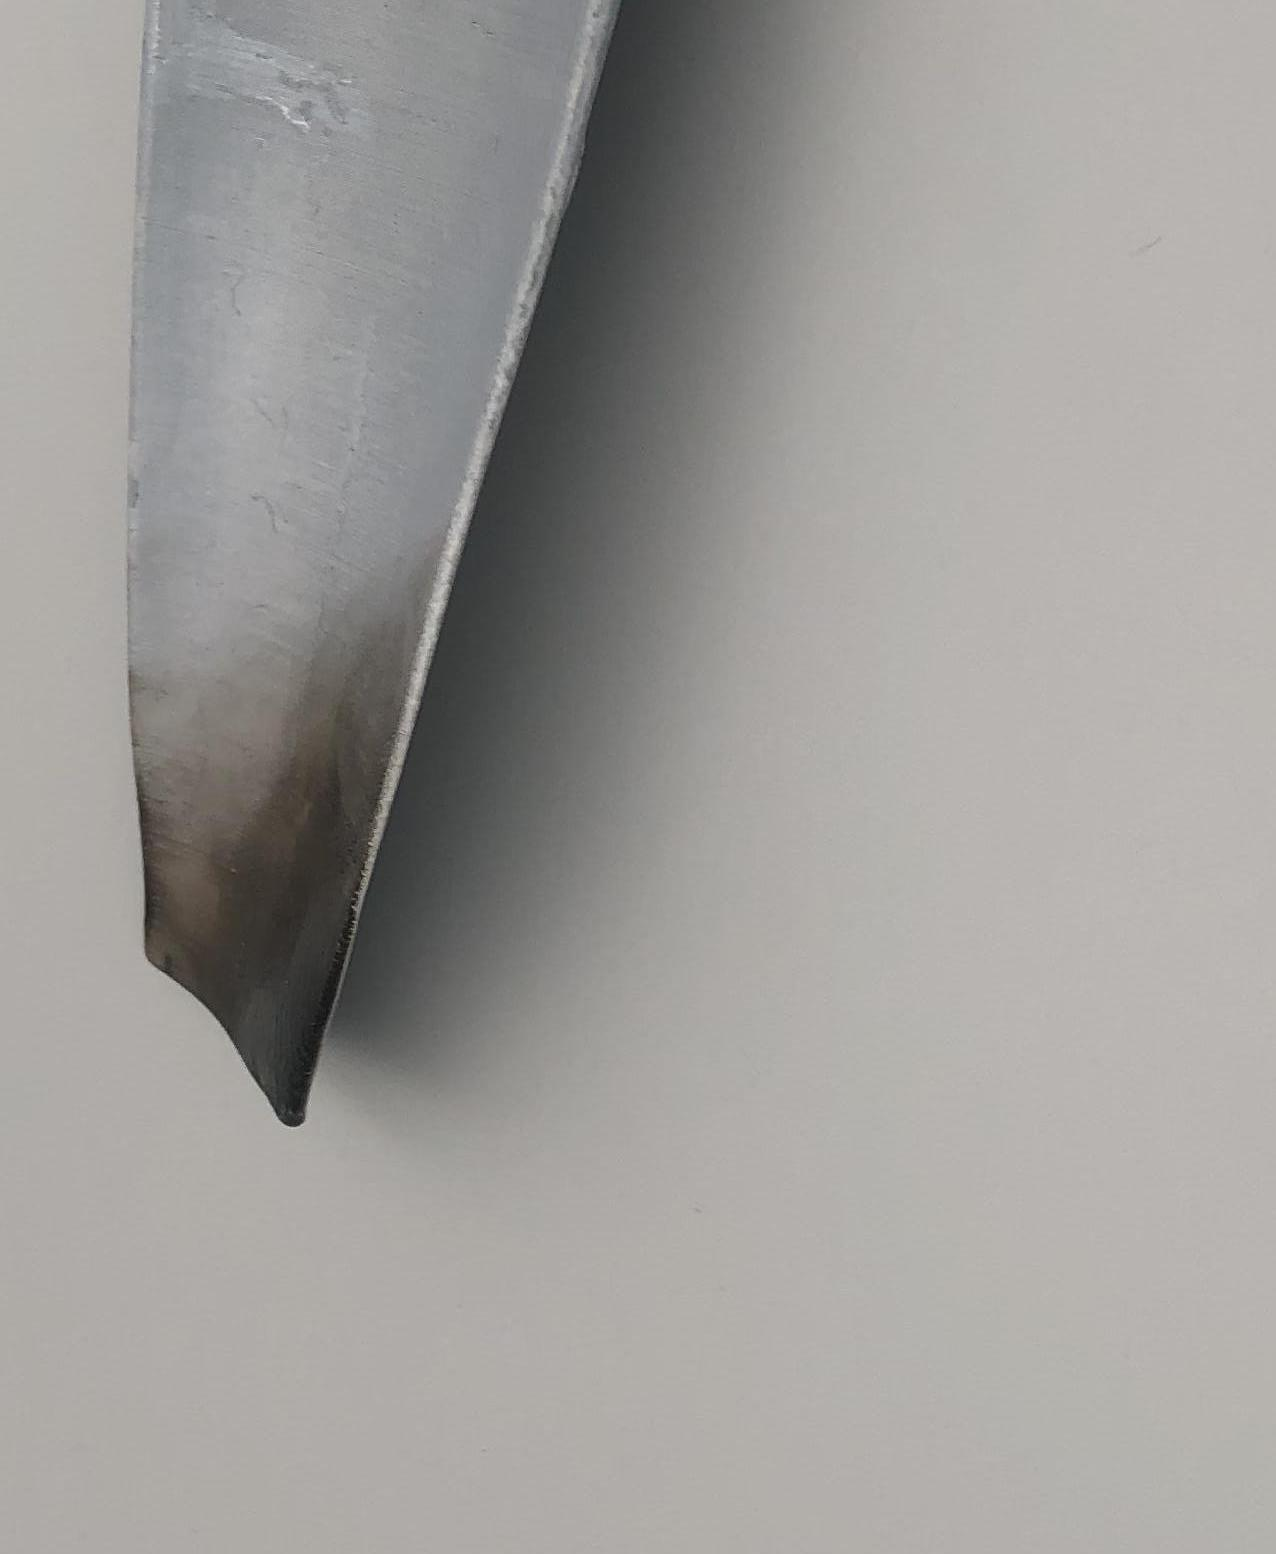ablation: (177, 768, 329, 1067)
